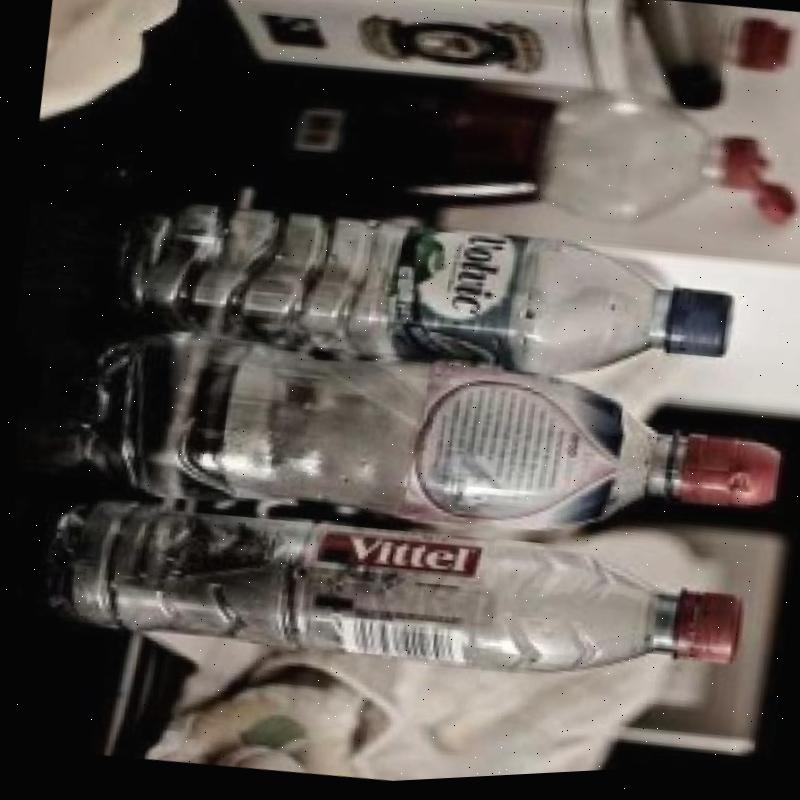botella: (74, 307, 789, 587), (37, 467, 745, 722), (111, 176, 742, 429)
